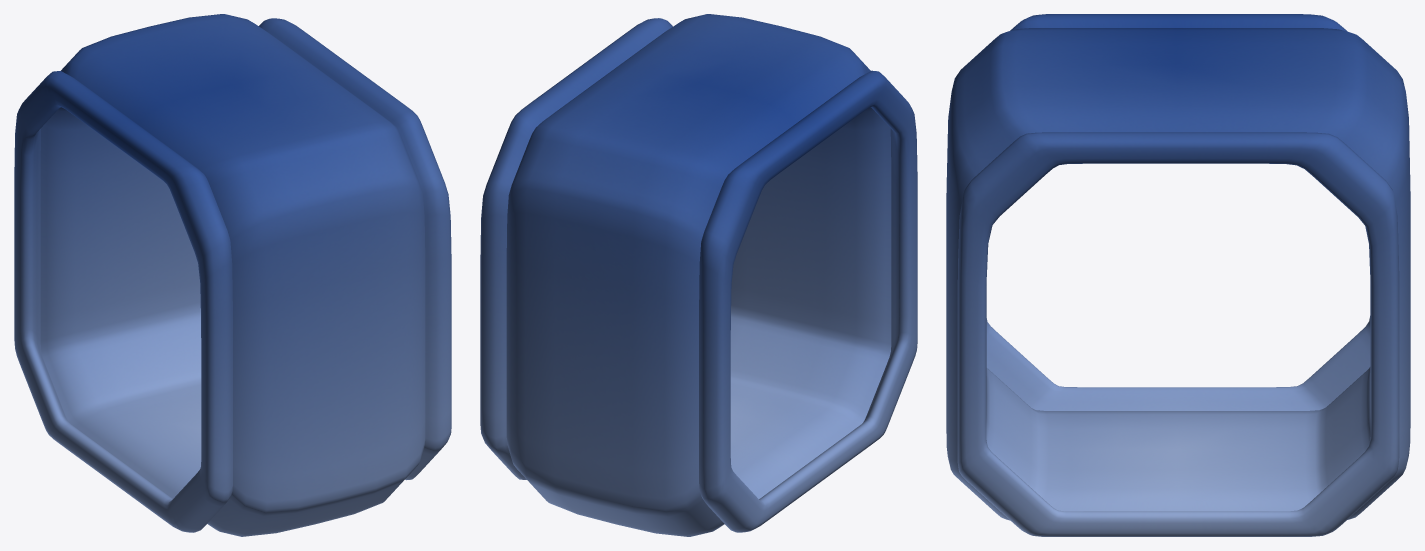
Rendered from Upgrader.fbx.
3 renders of one model, left to right at view 1: azimuth 30°, elevation 25°; view 2: azimuth 150°, elevation 25°; view 3: azimuth 270°, elevation 25°, orthographic. The views are drawn at different scales.
Visible parts, largest first — view 1: Upgrader; view 2: Upgrader; view 3: Upgrader.
Boxes of the visible parts, left/top/right/bottom form: Upgrader: left=14, top=14, right=451, bottom=536; Upgrader: left=480, top=14, right=917, bottom=536; Upgrader: left=946, top=14, right=1410, bottom=536.
Size of the model in its own units: 2 by 3 by 3.
Materials: 1 (1 with a texture image).
